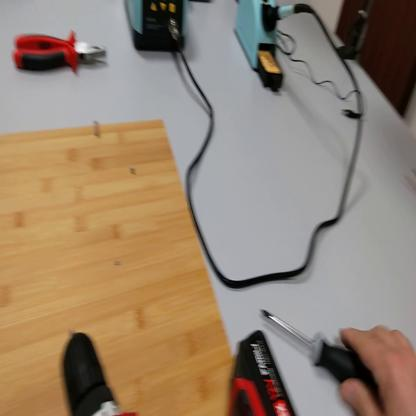electric screwdriver: (63, 328, 273, 415)
hand: (337, 324, 416, 416)
pliers: (13, 32, 108, 72)
screwdriver-: (262, 307, 383, 408)
welder base: (235, 1, 288, 95)
welder probe tip: (269, 3, 309, 28)
welder station: (125, 2, 189, 59)
working area: (2, 118, 230, 415)
